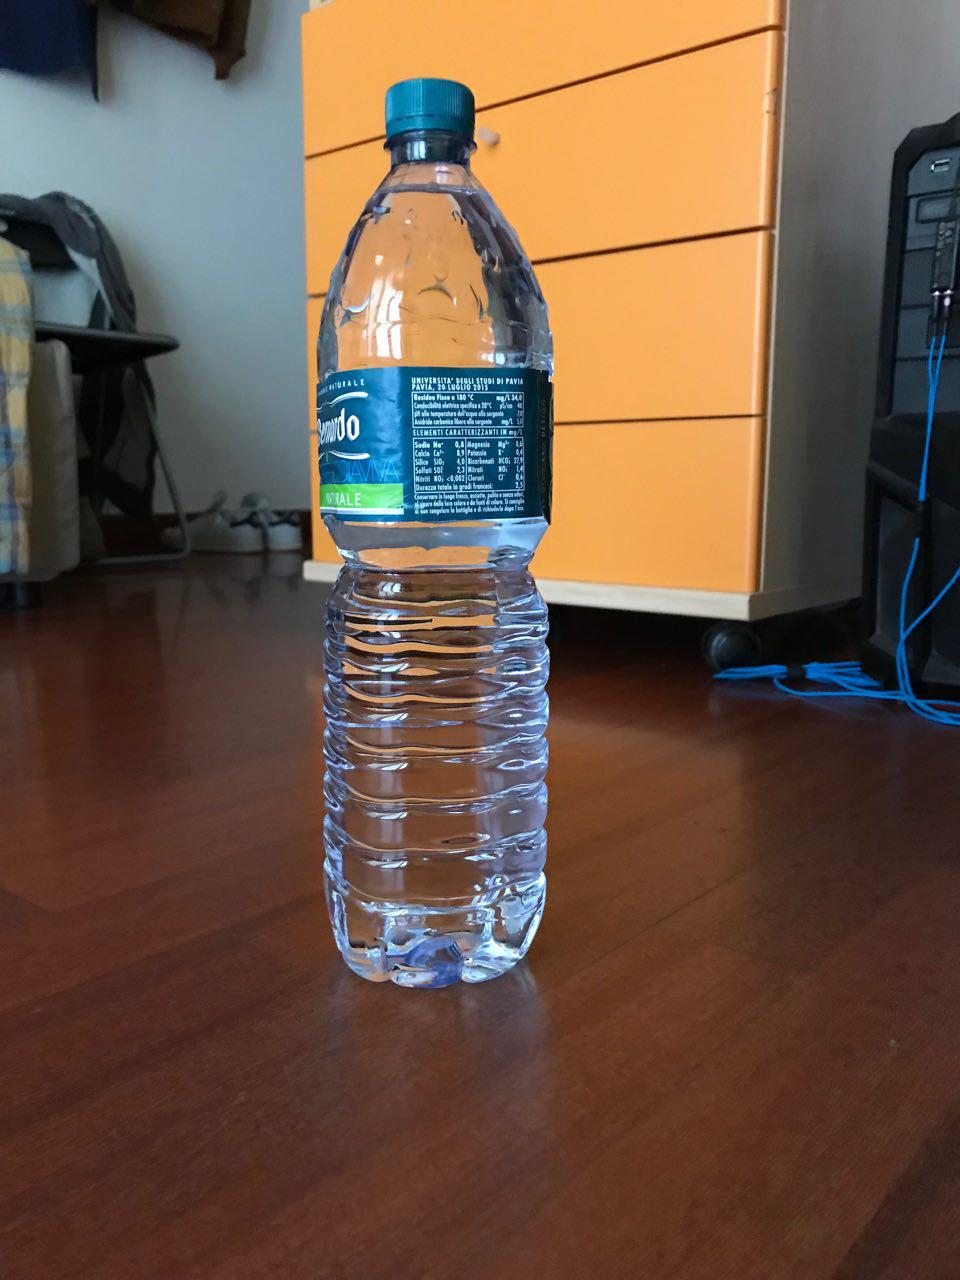san_bernardo: (315, 75, 557, 992)
